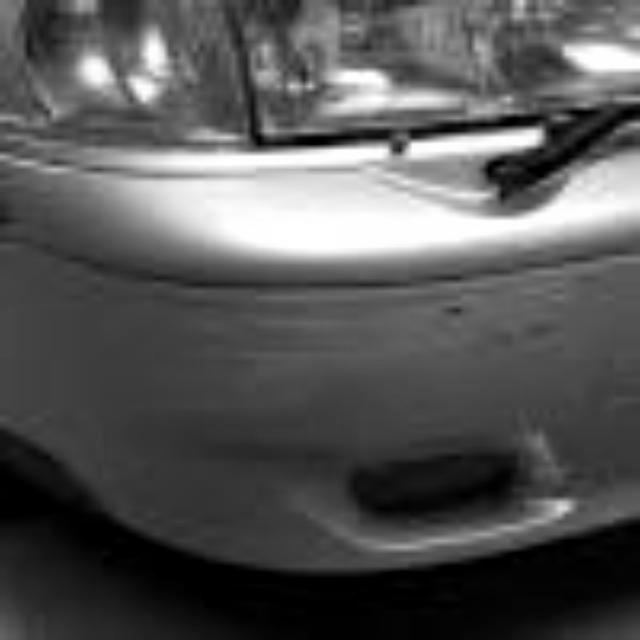front-bumper-dent: (1, 116, 634, 621)
